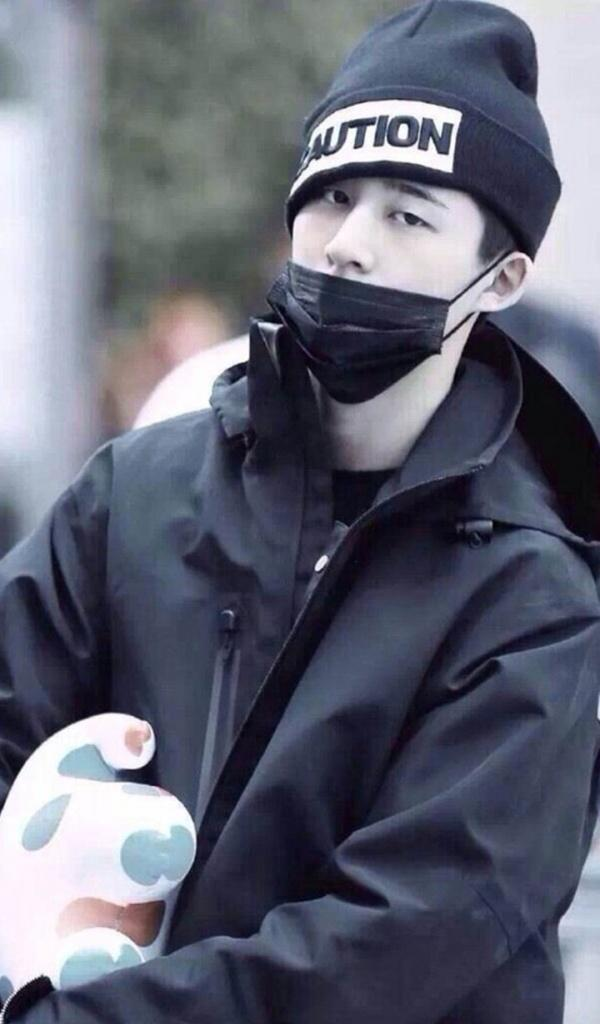WRONG: (278, 162, 503, 387)
